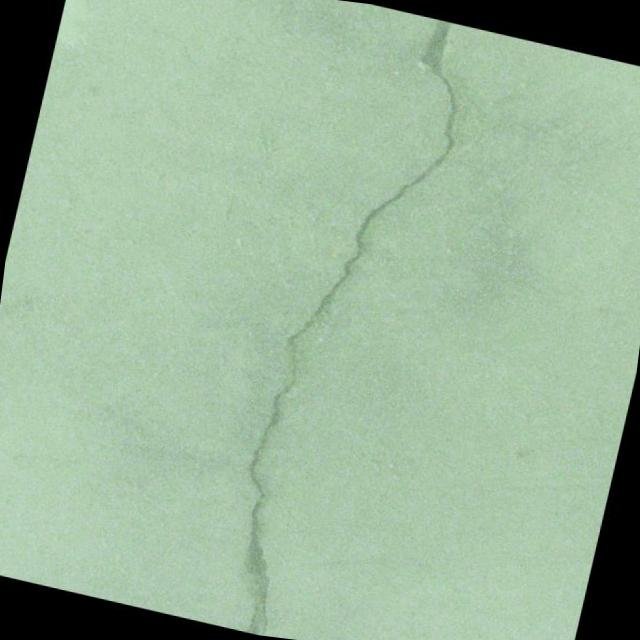crack: (211, 0, 484, 640)
